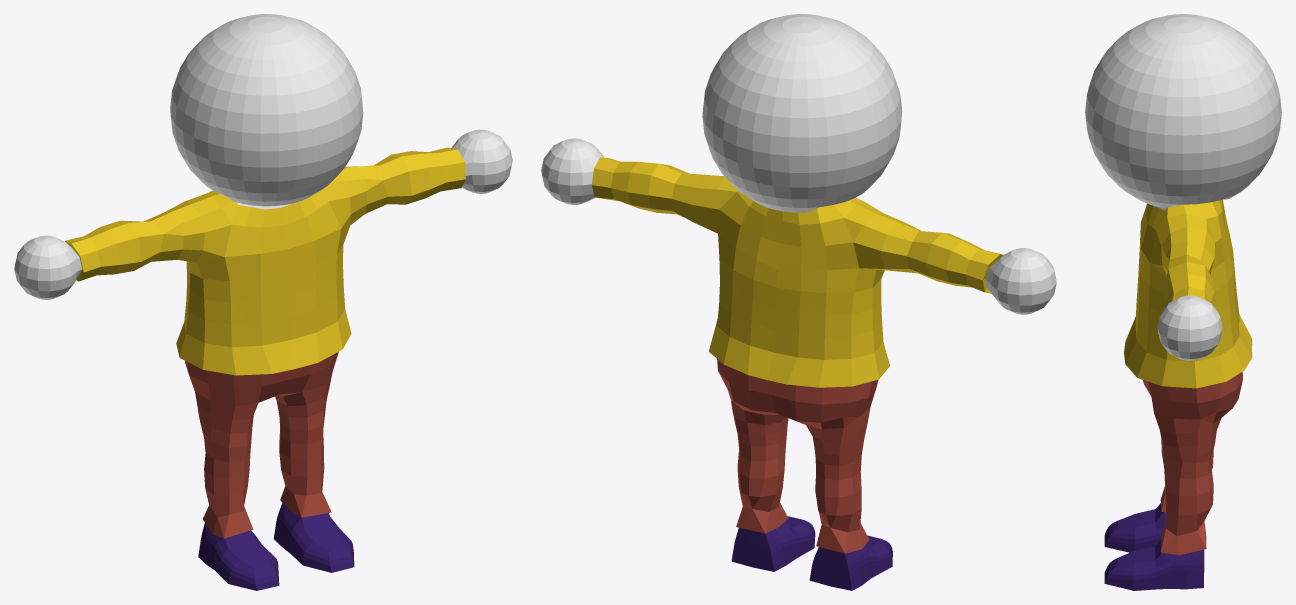
The model's file is chibi.sweat.fbx.
The picture shows the model from 3 angles, left to right: view 1: azimuth 30°, elevation 25°; view 2: azimuth 150°, elevation 25°; view 3: azimuth 270°, elevation 25°; orthographic projection. The views are drawn at different scales.
Parts seen in each view (by area): view 1: sweat; view 2: sweat; view 3: sweat.
Part boxes in pixels (x1,y1,x2,y2): sweat: (14,14,512,590); sweat: (541,14,1056,590); sweat: (1085,14,1281,590).
Size of the model in its own units: 105 by 108 by 36.
